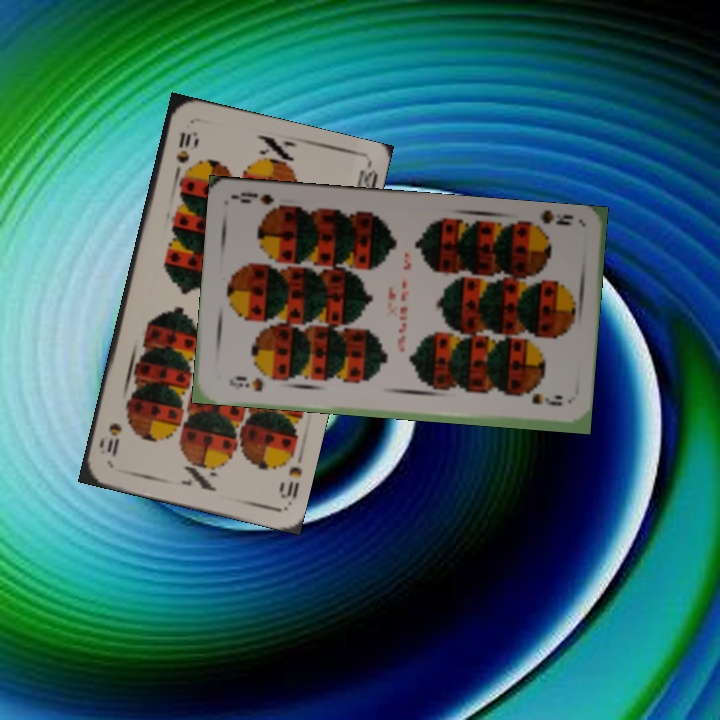S10: (170, 127, 197, 180), (275, 462, 305, 502)
S9: (521, 208, 576, 236), (225, 372, 266, 394)
